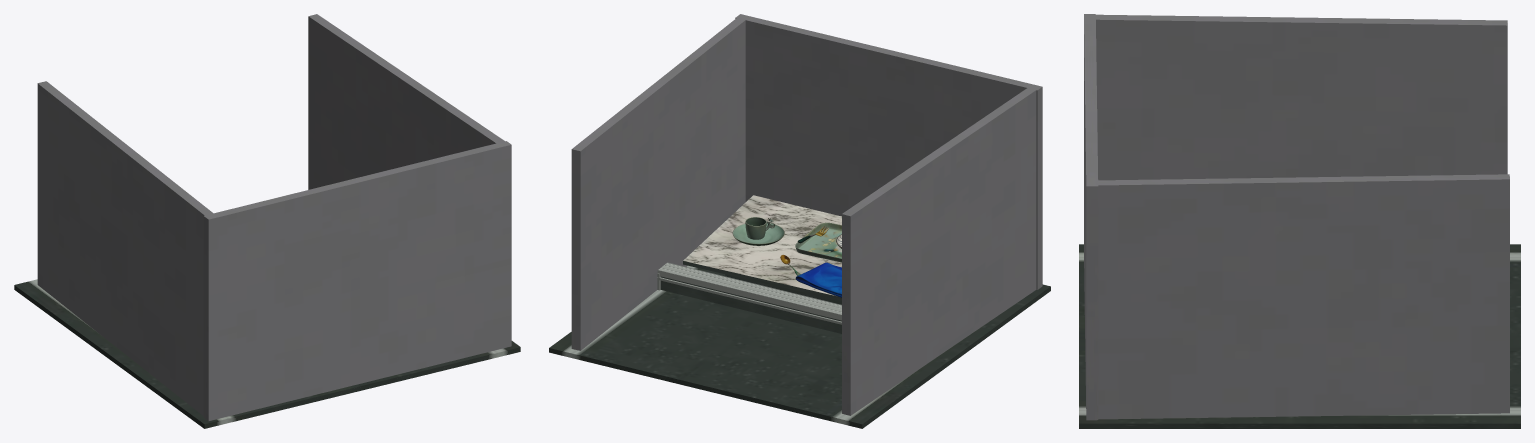
The model's file is ours.glb.
The picture shows the model from 3 angles, left to right: view 1: azimuth 30°, elevation 25°; view 2: azimuth 150°, elevation 25°; view 3: azimuth 270°, elevation 25°; orthographic projection. The views are drawn at different scales.
Parts seen in each view (by area): view 1: wall_0, wall_2, wall_1, floor_0; view 2: wall_2, wall_0, wall_1, floor_0, table_0, wall_3_top_frame, wall_3, obj_tray_0, obj_napkin_0, wall_3_upper_rail, obj_saucer_0, obj_cup_0; view 3: wall_1, wall_2, floor_0, wall_0.
Boxes of the visible parts, <box> form: wall_0: <box>203,141,511,420</box>; wall_2: <box>37,81,213,415</box>; wall_1: <box>308,14,507,189</box>; floor_0: <box>14,279,520,428</box>; wall_2: <box>842,86,1037,415</box>; wall_0: <box>735,14,1042,289</box>; wall_1: <box>571,17,747,350</box>; floor_0: <box>549,265,1050,428</box>; table_0: <box>683,195,841,304</box>; wall_3_top_frame: <box>657,262,841,320</box>; wall_3: <box>660,276,841,333</box>; obj_tray_0: <box>795,222,841,262</box>; obj_napkin_0: <box>795,262,841,297</box>; wall_3_upper_rail: <box>657,277,841,324</box>; obj_saucer_0: <box>732,223,784,245</box>; obj_cup_0: <box>745,217,775,239</box>; wall_1: <box>1092,174,1509,419</box>; wall_2: <box>1089,14,1507,180</box>; floor_0: <box>1079,244,1520,428</box>; wall_0: <box>1084,14,1098,420</box>.
Size of the model in its own units: 1.42 by 0.885 by 1.48.
Materials: 20 (20 with a texture image).
